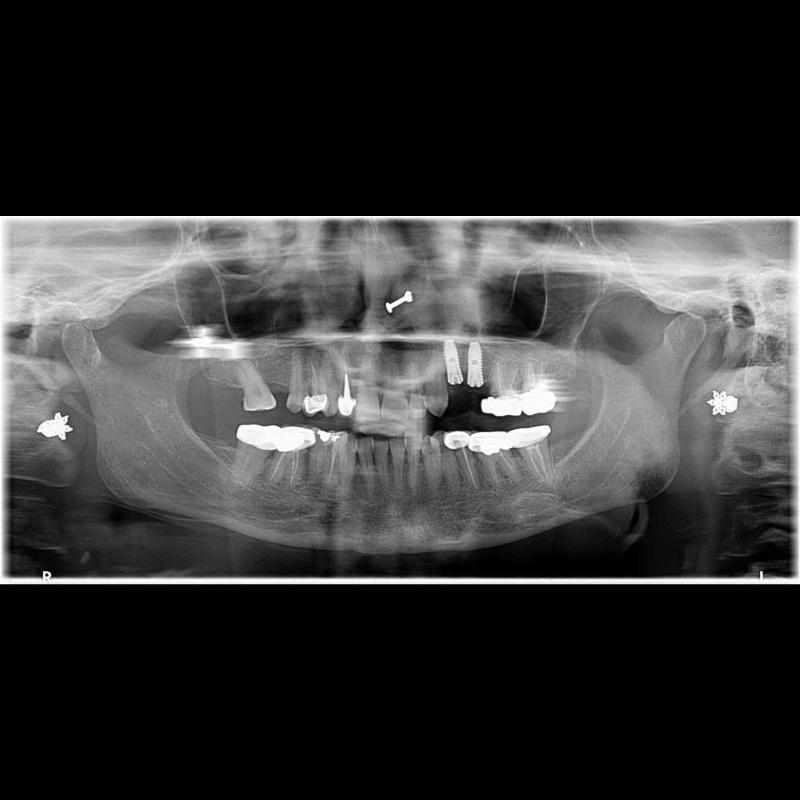Dentium: (442, 342, 464, 384), (466, 340, 484, 388)
